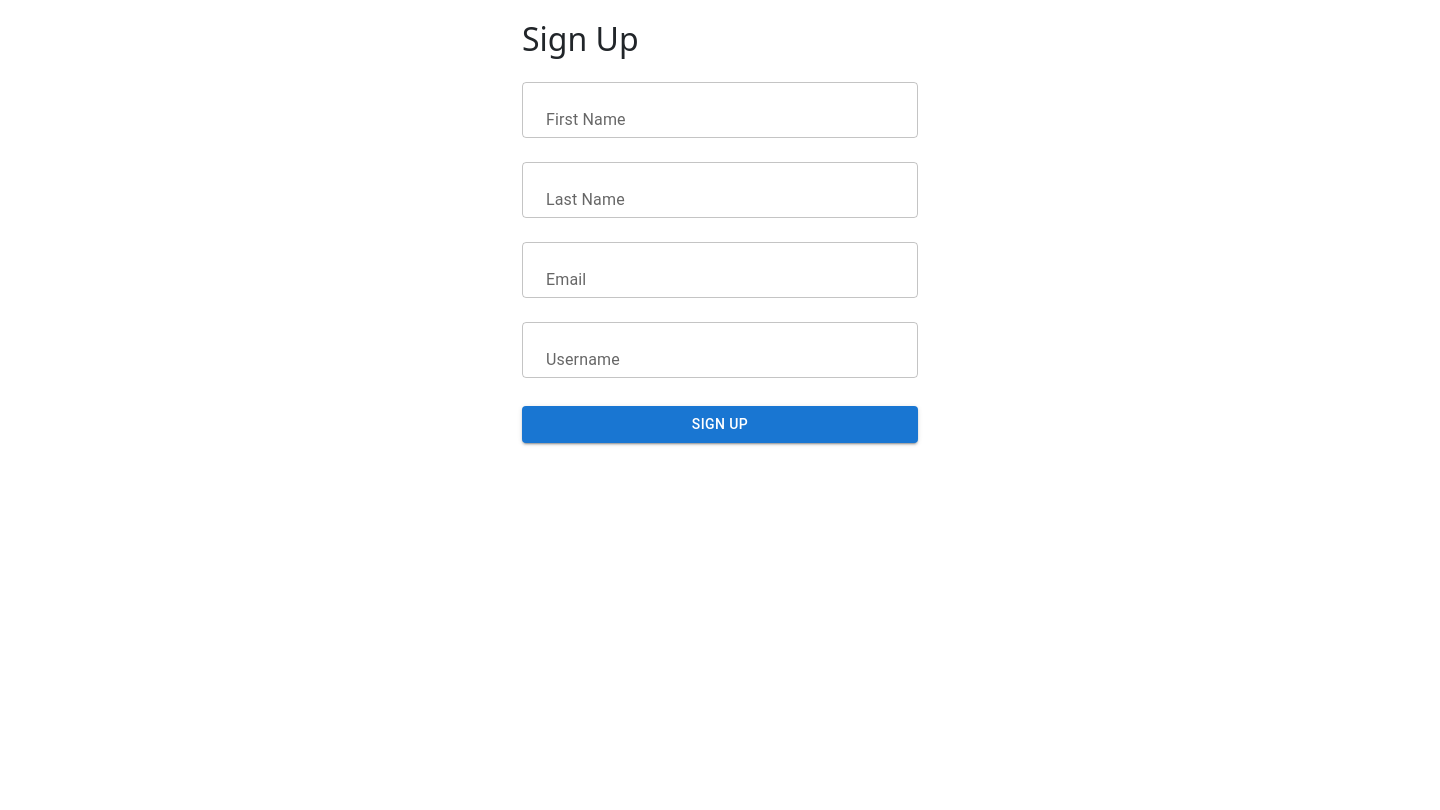
Test case: NewUserComponent › handles form submission and displays an error message
Type "John" into the field labelled "First Name".
click(720, 110); type("John")  # box [522,82,918,138]
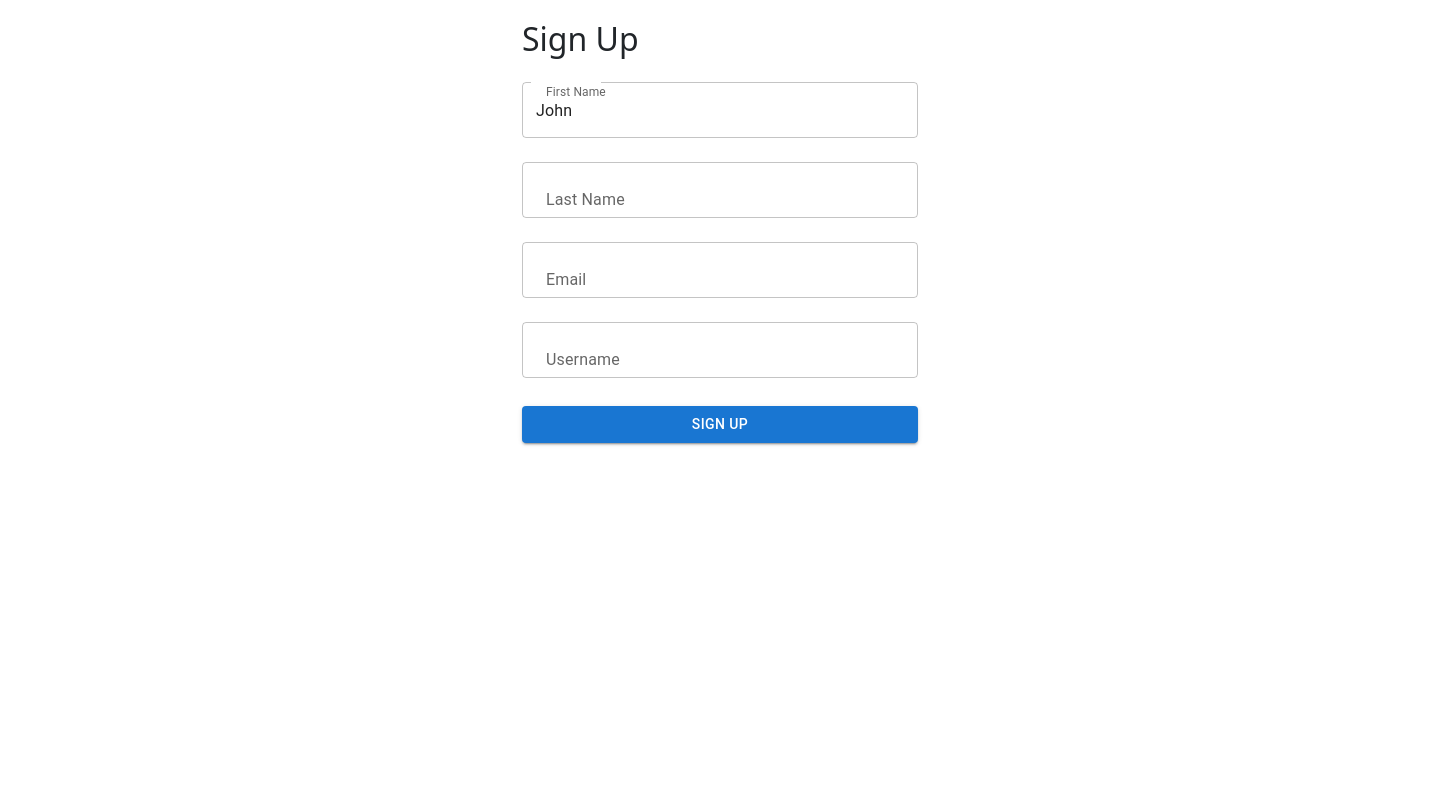
Type "Doe" into the field labelled "Last Name".
click(720, 190); type("Doe")  # box [522,162,918,218]
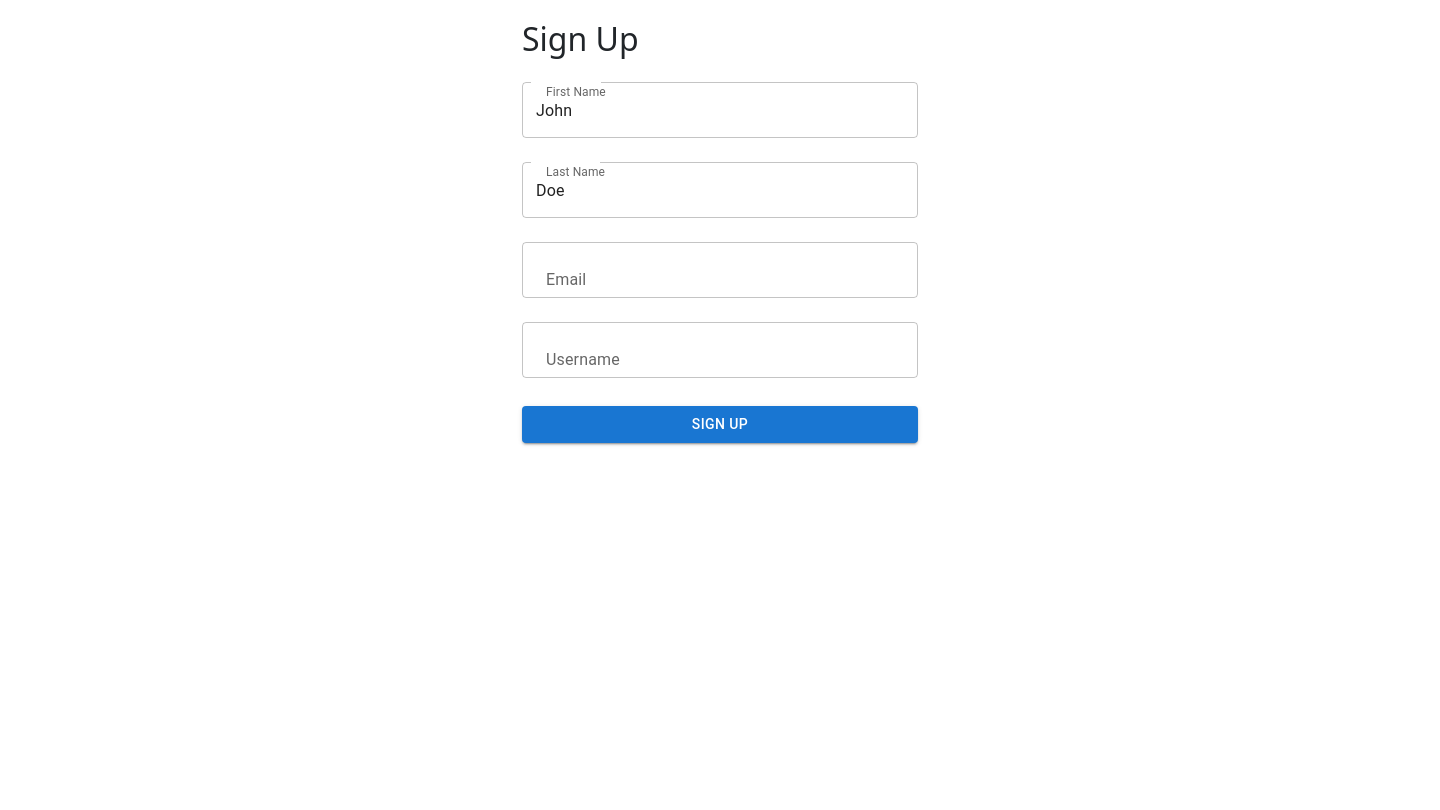
Type "john@example.com" into the field labelled "Email".
click(720, 270); type("john@example.com")  # box [522,242,918,298]
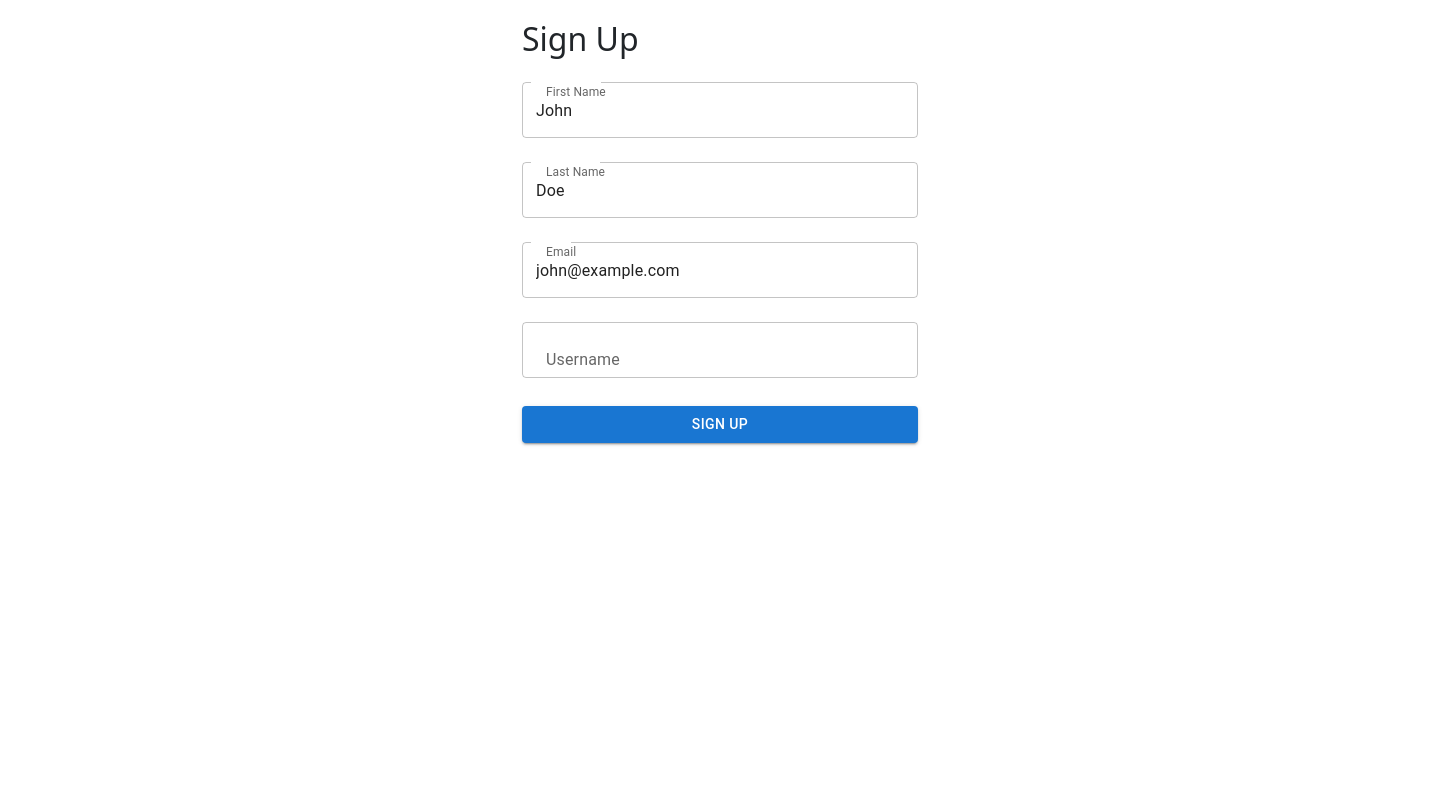
Type "johndoe" into the field labelled "Username".
click(720, 350); type("johndoe")  # box [522,322,918,378]
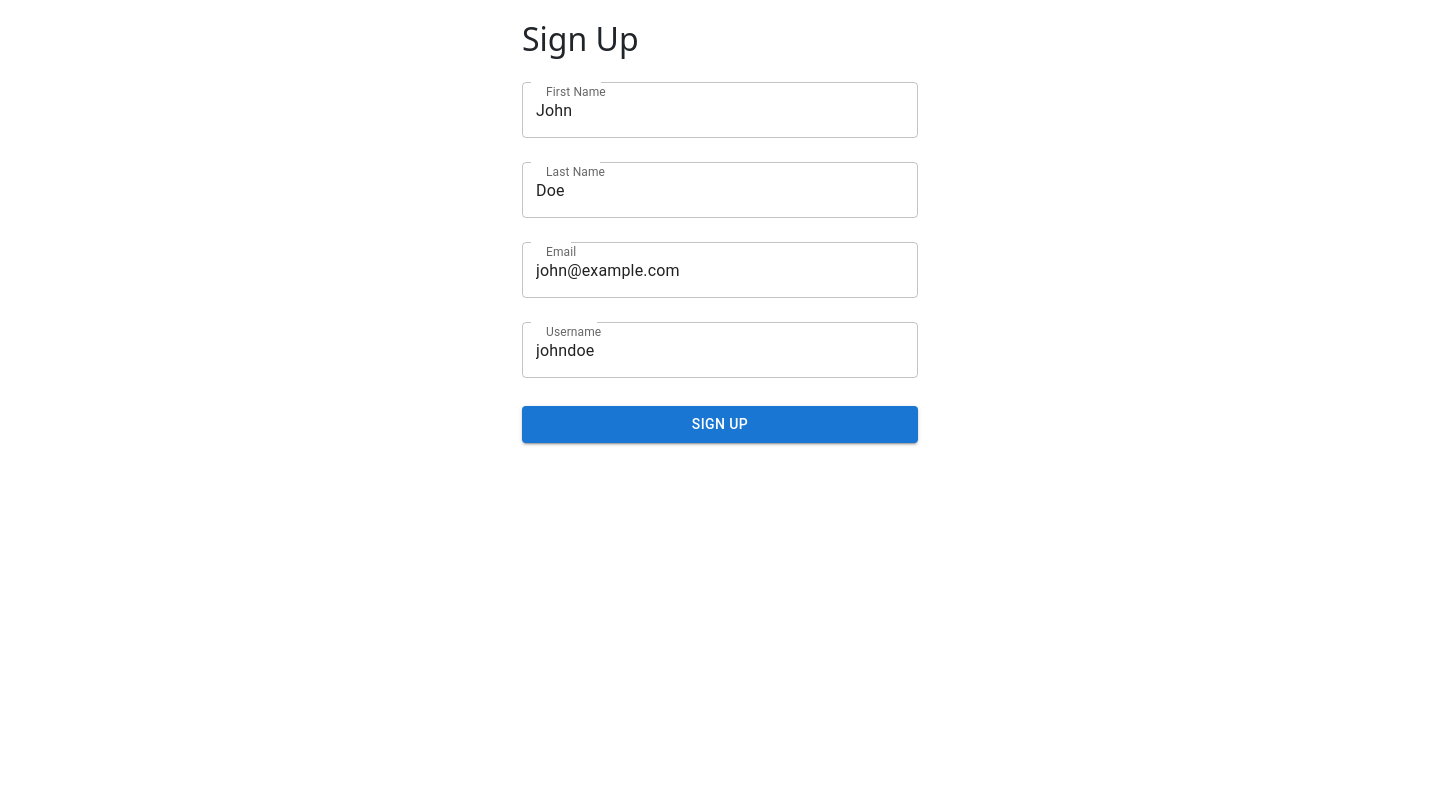
Click the button with test id "sign-up-button".
click(720, 425)  # box [522,406,918,443]
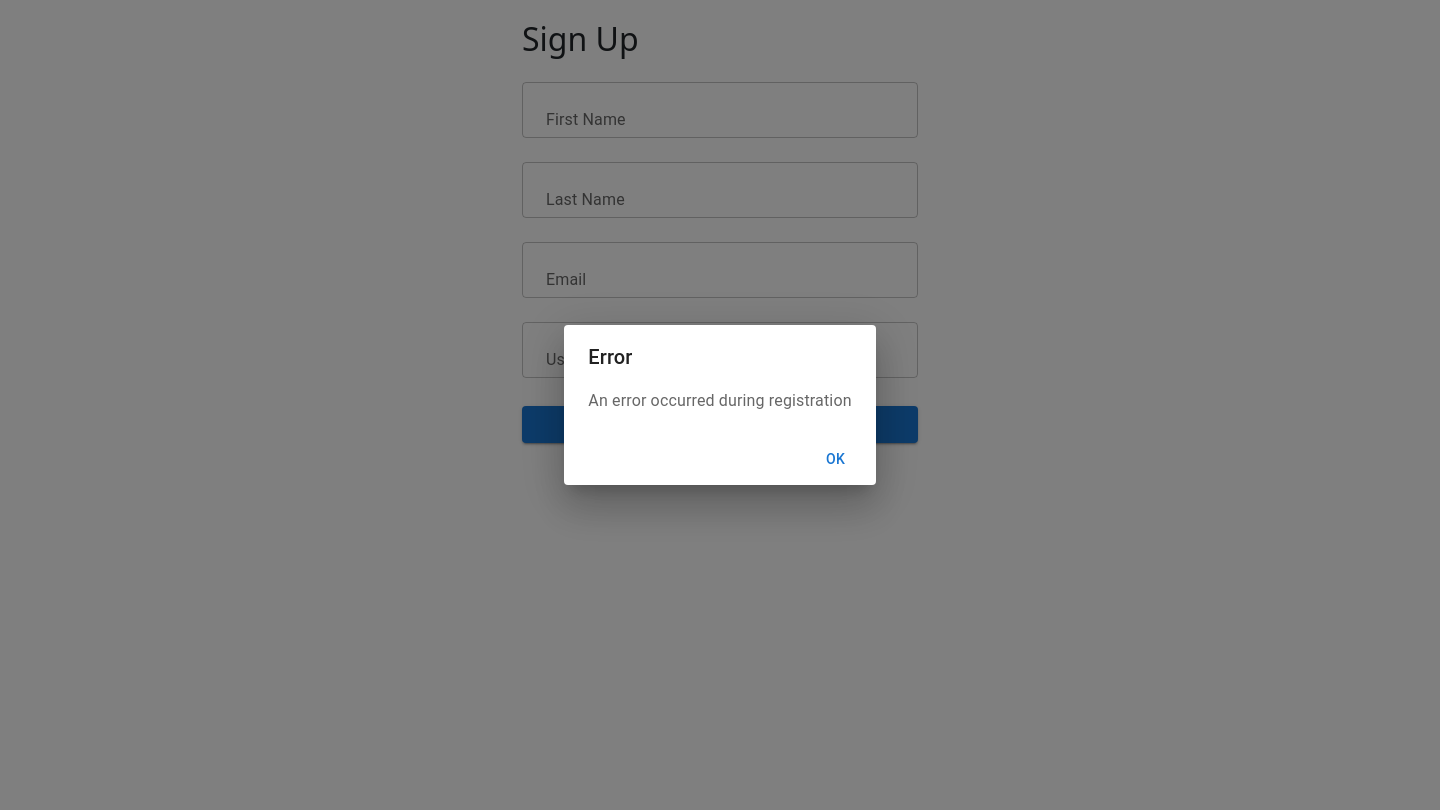
Expected: the text "An error occurred during registration" is shown, [588,389,852,413]
